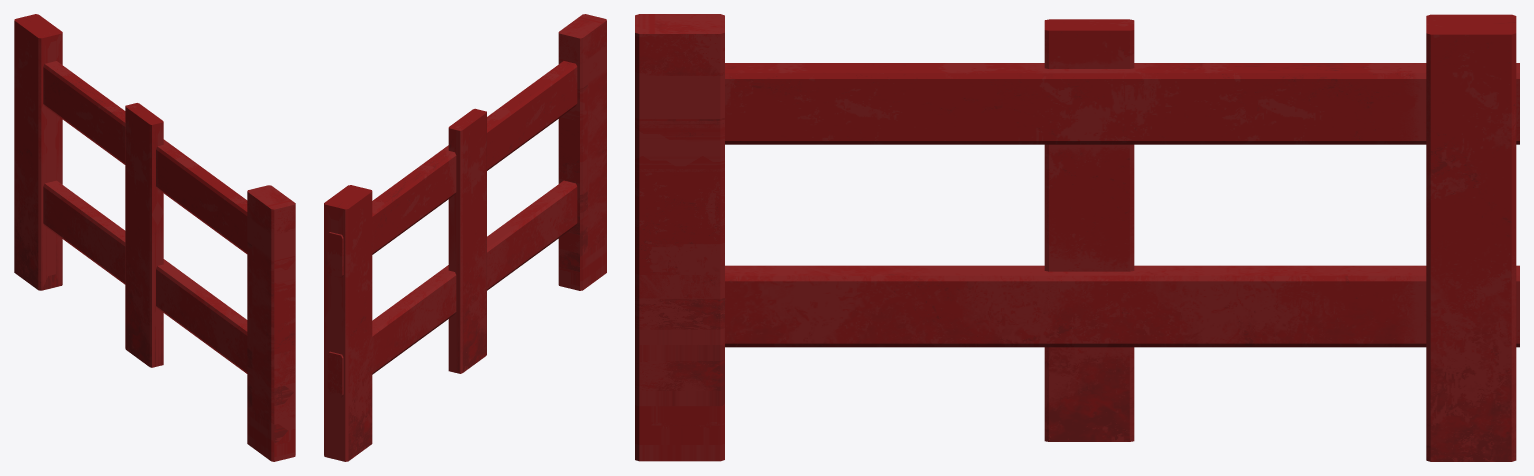
Rendered from TinyFanceFull.fbx.
3 renders of one model, left to right at view 1: azimuth 30°, elevation 25°; view 2: azimuth 150°, elevation 25°; view 3: azimuth 270°, elevation 25°, orthographic. The views are drawn at different scales.
Visible parts, largest first — view 1: TinyFance, TinyFancePillar; view 2: TinyFance, TinyFancePillar; view 3: TinyFance, TinyFancePillar.
Boxes of the visible parts, box(x1,y1,x2,y2) form: TinyFance: box(14, 14, 247, 373); TinyFancePillar: box(247, 185, 295, 461); TinyFance: box(324, 61, 577, 461); TinyFancePillar: box(558, 14, 606, 290); TinyFance: box(725, 14, 1519, 461); TinyFancePillar: box(635, 14, 724, 461).
Size of the model in its own units: 1.31 by 12.28 by 23.05.
1 material, 1 textured.
